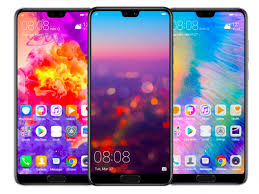huawei: (87, 3, 173, 187), (168, 2, 250, 186), (11, 5, 90, 185)
